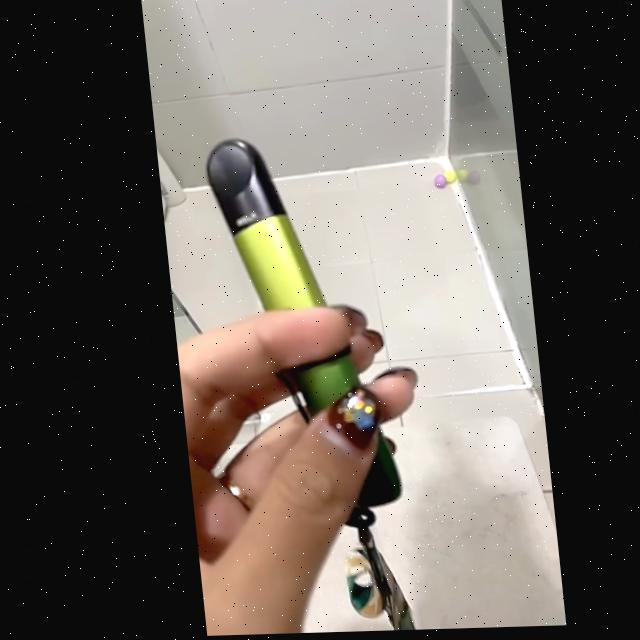vape: (197, 136, 395, 514)
